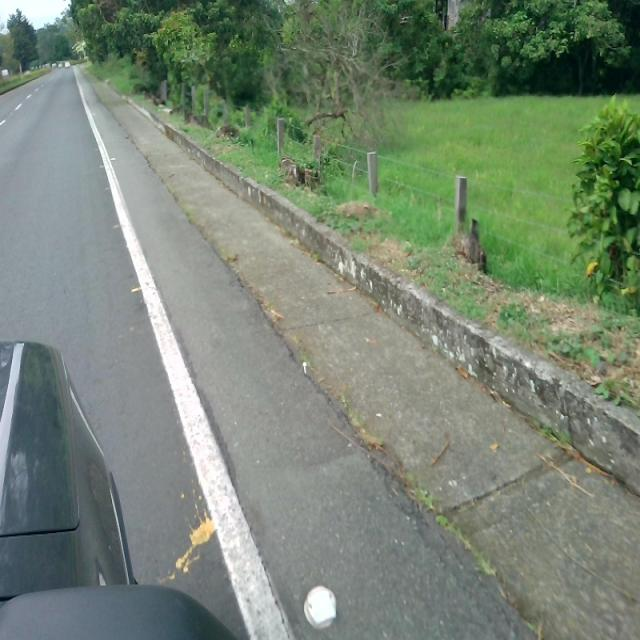DITCH: (61, 36, 639, 638), (72, 61, 638, 638)
